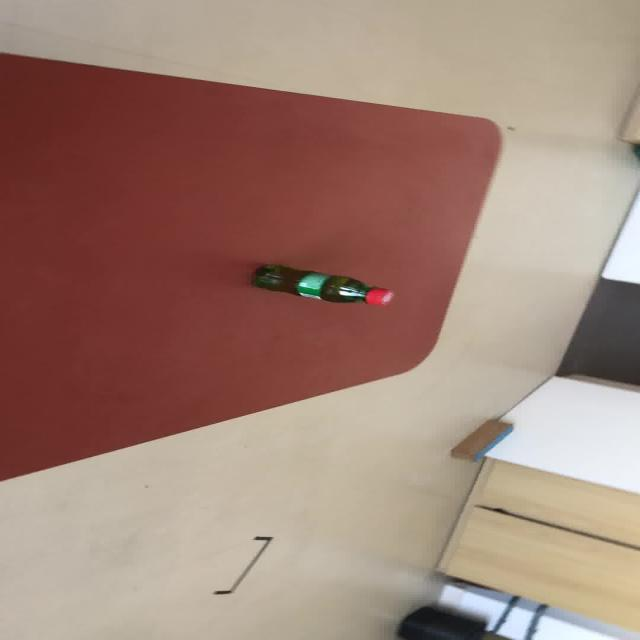guarana: (249, 262, 393, 306)
